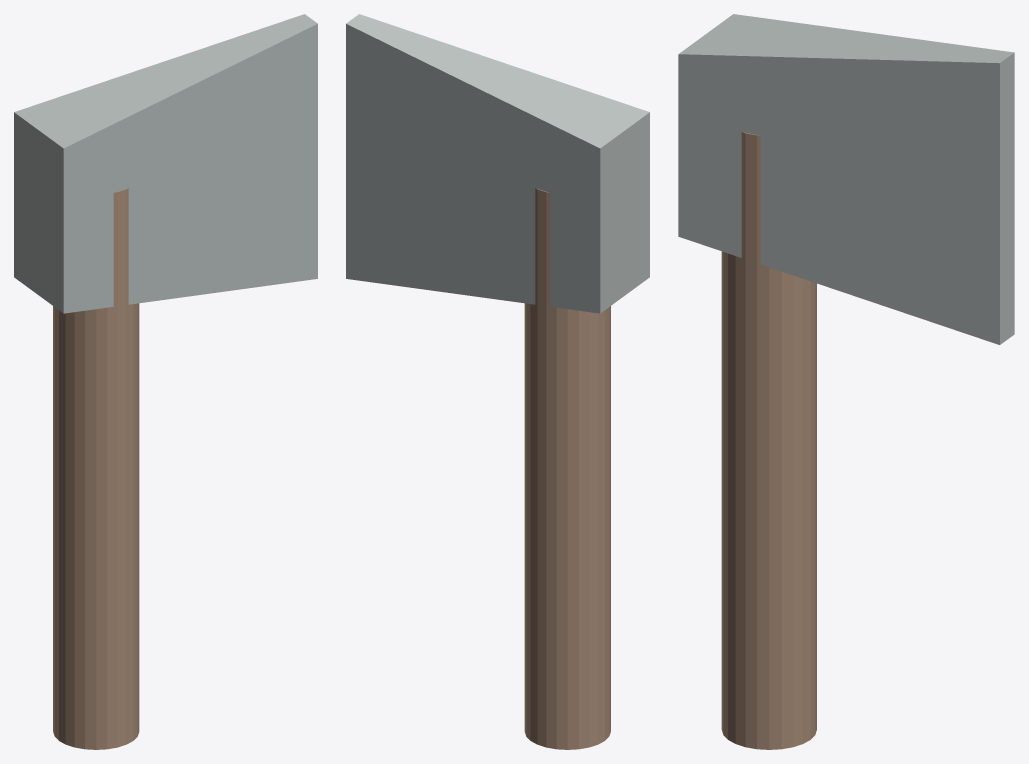
The picture shows the model from 3 angles, left to right: view 1: azimuth 30°, elevation 25°; view 2: azimuth 150°, elevation 25°; view 3: azimuth 330°, elevation 25°; orthographic projection. The views are drawn at different scales.
Parts seen in each view (by area): view 1: wedge head, hatchet handle; view 2: wedge head, hatchet handle; view 3: wedge head, hatchet handle.
Part boxes in pixels (x1=…): wedge head: x1=14, y1=14, x2=317, y2=313; hatchet handle: x1=53, y1=188, x2=139, y2=749; wedge head: x1=346, y1=14, x2=649, y2=313; hatchet handle: x1=524, y1=188, x2=610, y2=749; wedge head: x1=678, y1=14, x2=1014, y2=344; hatchet handle: x1=721, y1=132, x2=816, y2=749.
Bounding box in the file's own units: 0.19 × 0.44 × 0.06.
